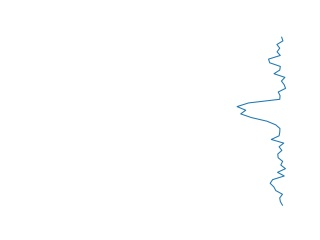interdistributaryEstuary: (232, 38, 292, 206)
